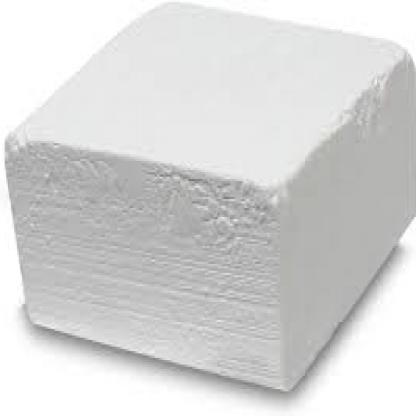Sedimentary_Chalk: (3, 9, 415, 390)
